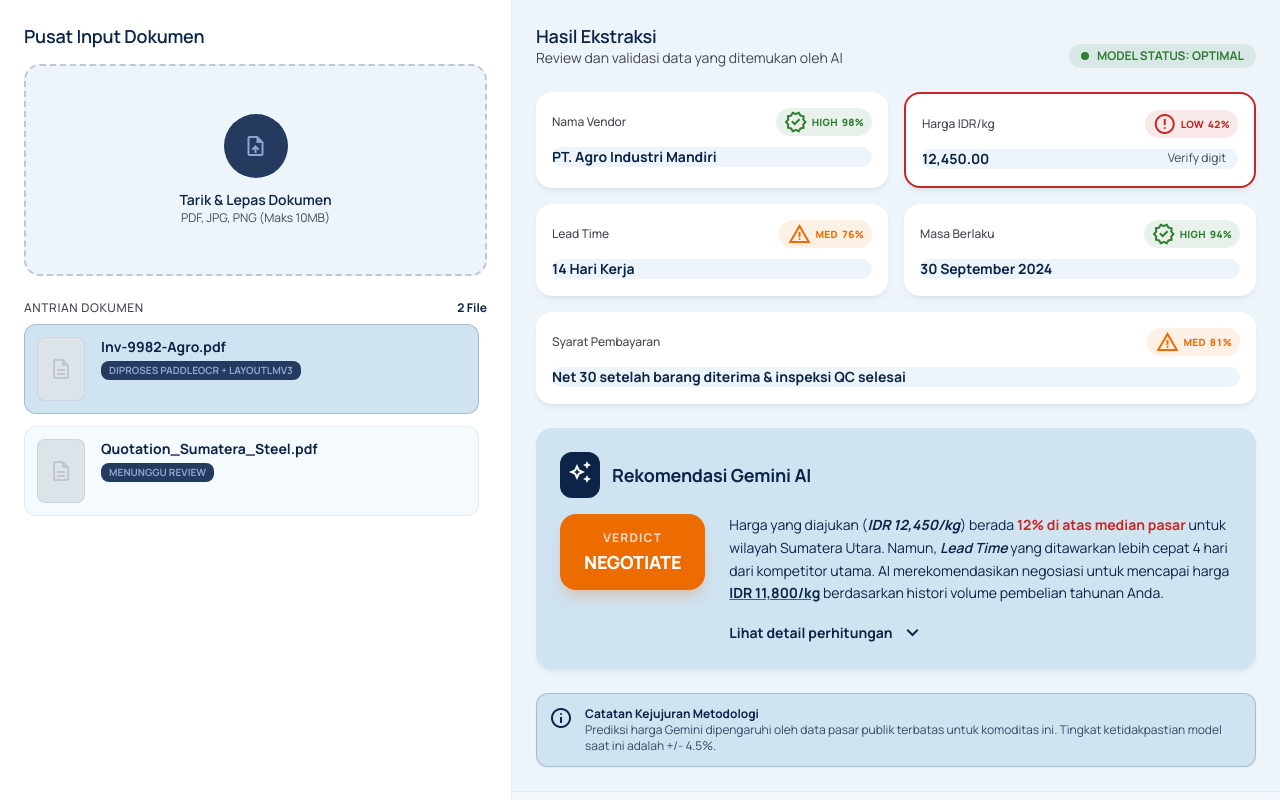
Scenario: DocumentParsingPage › loads a different document’s fields when selected from the queue
The width and height of the screenshot is (1280, 800).
Click the text "Quotation_Sumatera_Steel.pdf" at (209, 448), box [101,439,318,458]
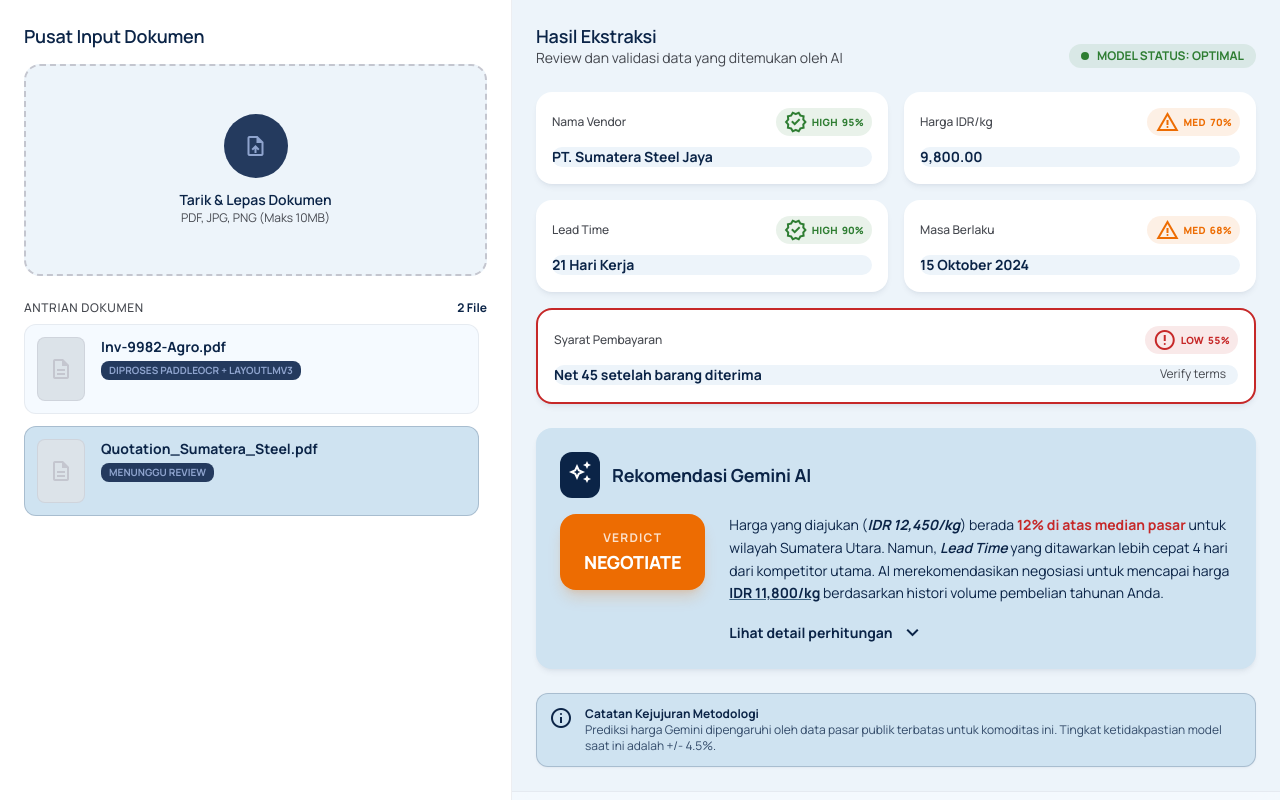
Expected: the field showing "PT. Sumatera Steel Jaya" below "Nama Vendor" is shown, [552,147,872,167]
